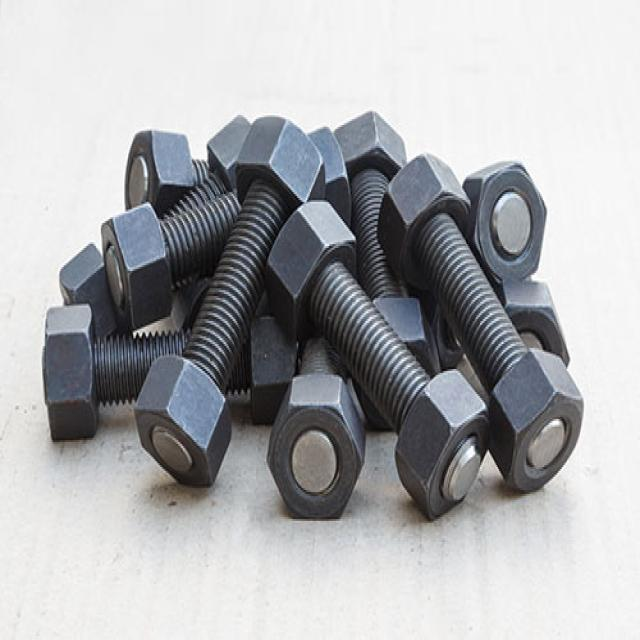Logam: (48, 48, 609, 536)
